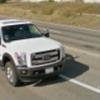cars: (0, 20, 65, 86)
